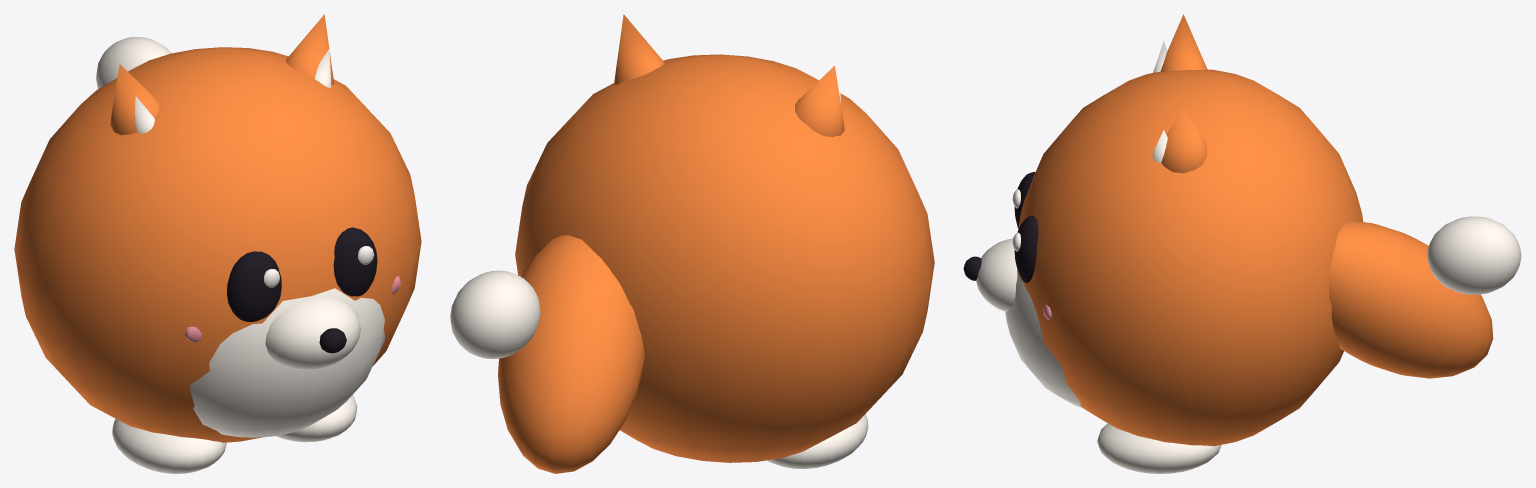
The model's file is fox.glb.
3 renders of one model, left to right at view 1: azimuth 30°, elevation 25°; view 2: azimuth 150°, elevation 25°; view 3: azimuth 270°, elevation 25°, orthographic. The views are drawn at different scales.
Visible parts, largest first — view 1: body, belly, snout, foot, eye, eye.001, tailTip, ear, ear.001, foot.001, nose, earInner; view 2: body, tail, tailTip, ear, foot, ear.001; view 3: body, tail, tailTip, foot.001, belly, snout, ear.001, ear, eye.001.
Boxes of the visible parts, left/top/right/bottom form: body: left=14, top=47, right=421, bottom=442; belly: left=189, top=288, right=385, bottom=437; snout: left=265, top=296, right=360, bottom=370; foot: left=112, top=419, right=226, bottom=473; eye: left=227, top=251, right=281, bottom=321; eye.001: left=333, top=227, right=377, bottom=296; tailTip: left=96, top=37, right=171, bottom=88; ear: left=110, top=64, right=159, bottom=135; ear.001: left=286, top=14, right=334, bottom=84; foot.001: left=276, top=395, right=357, bottom=442; nose: left=319, top=328, right=346, bottom=353; earInner: left=134, top=96, right=154, bottom=133; body: left=515, top=54, right=934, bottom=462; tail: left=498, top=235, right=644, bottom=473; tailTip: left=450, top=270, right=540, bottom=358; ear: left=795, top=65, right=844, bottom=136; foot: left=767, top=414, right=868, bottom=468; ear.001: left=614, top=14, right=664, bottom=84; body: left=1018, top=69, right=1363, bottom=446; tail: left=1329, top=221, right=1493, bottom=378; tailTip: left=1427, top=216, right=1521, bottom=294; foot.001: left=1097, top=423, right=1221, bottom=473; belly: left=1005, top=270, right=1082, bottom=408; snout: left=976, top=238, right=1017, bottom=311; ear.001: left=1161, top=108, right=1207, bottom=173; ear: left=1160, top=14, right=1207, bottom=71; eye.001: left=1014, top=215, right=1038, bottom=283.
Bounding box in the file's own units: 0.9172 × 0.966 × 1.3.
